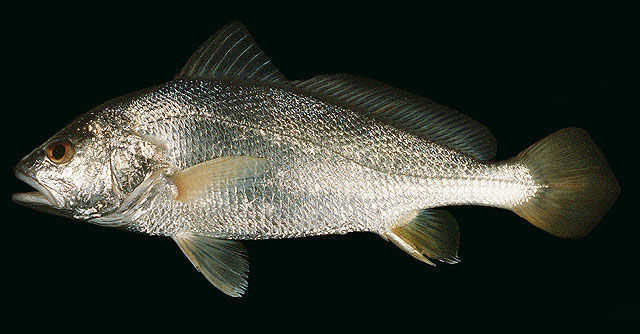fish: (12, 18, 623, 298)
